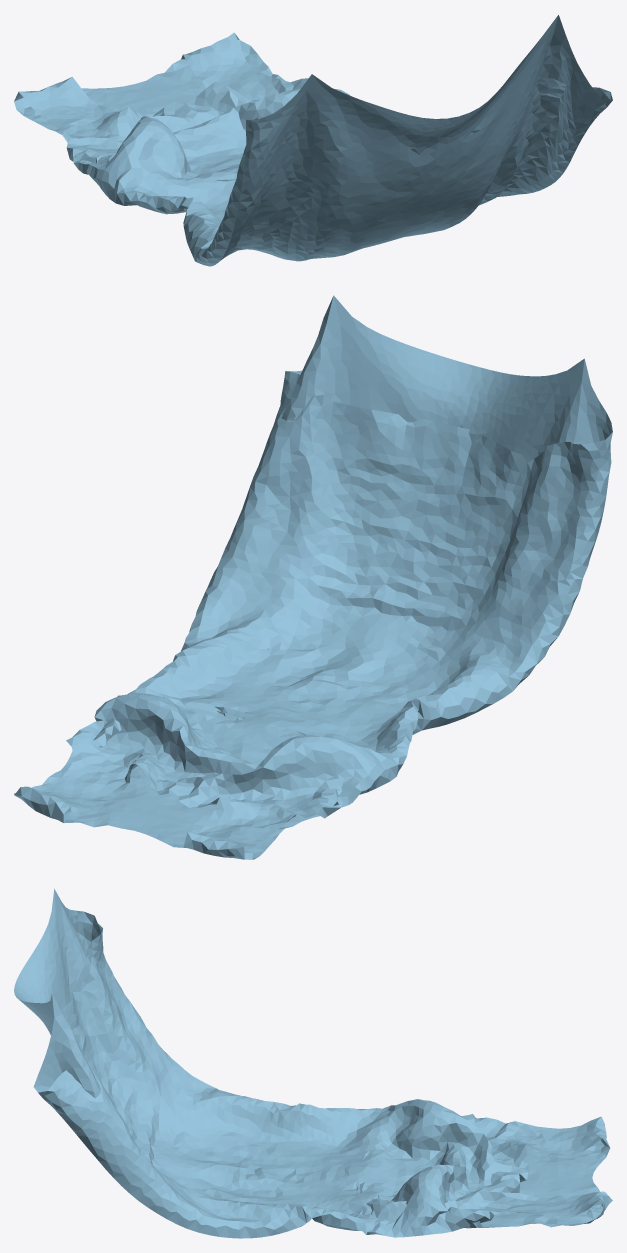
File: frame_05.glb
3 renders of one model, top to bottom at view 1: azimuth 30°, elevation 25°; view 2: azimuth 150°, elevation 25°; view 3: azimuth 270°, elevation 25°, orthographic. The views are drawn at different scales.
Parts seen in each view (by area): view 1: frame_05.obj; view 2: frame_05.obj; view 3: frame_05.obj.
Boxes of the visible parts, bbox=[...] form: frame_05.obj: bbox=[14, 15, 612, 266]; frame_05.obj: bbox=[14, 295, 612, 859]; frame_05.obj: bbox=[14, 889, 612, 1238].
Size of the model in its own units: 0.9702 by 0.7405 by 1.69.
